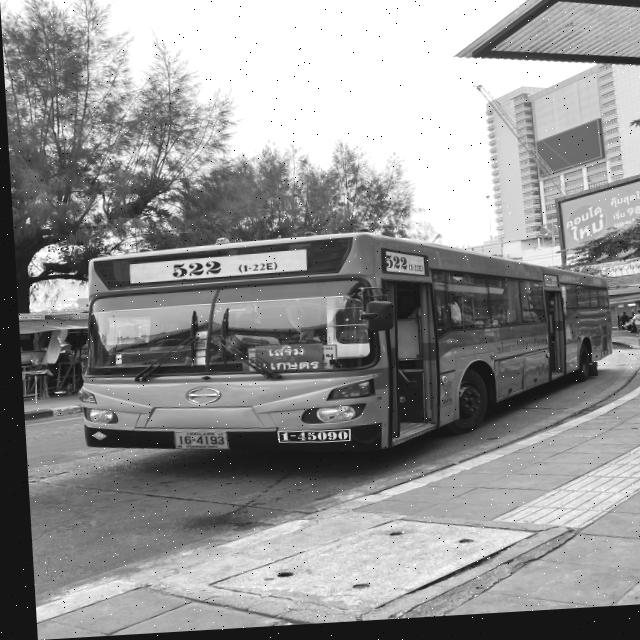BMTA-bus: (65, 225, 616, 472)
Bus-Line-Number: (154, 260, 275, 282)
Destination-Sign-Extra-Bus: (250, 348, 318, 374)
